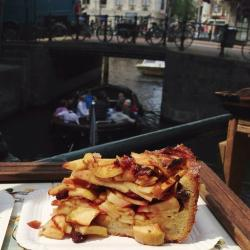apple_pie: (48, 144, 203, 245)
